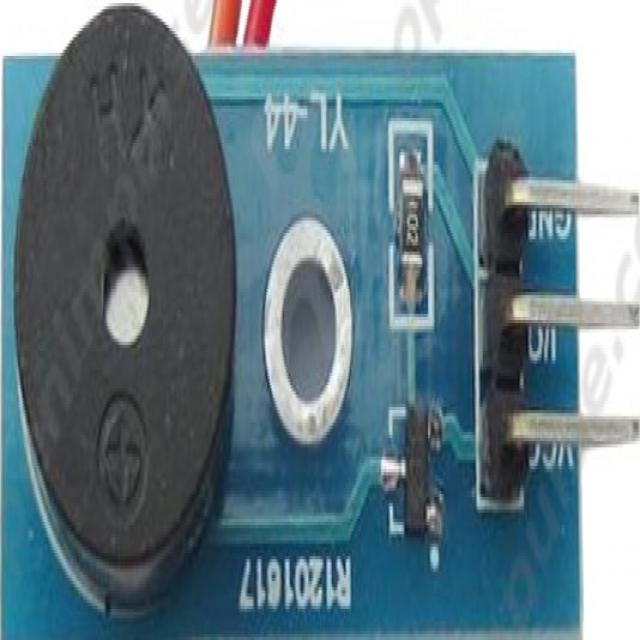4439: (391, 418, 438, 537)
buzzer: (12, 0, 245, 626)
connector -5v-: (477, 155, 640, 525)
resistor IR1: (401, 153, 428, 300)
